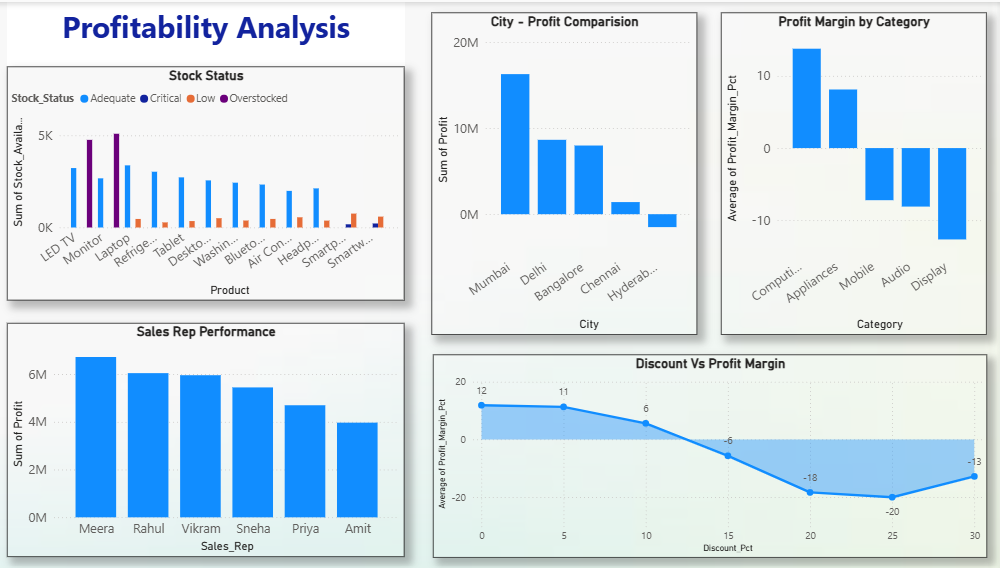

The dashboard page shown, as its layout file describes it:
{"tool":"powerbi","page":{"name":"Profitability Analysis","canvas":[1280,720],"ordinal":1},"visuals":[{"type":"textbox","box":[25.7,0,501.2,81.8],"z":0},{"type":"columnChart","title":"Profit Margin by Category","fields":{"Category":["techzone_sales.Category"],"Y":["Avg(techzone_sales.Profit_Margin_Pct)"]},"box":[926,13.2,334.5,406.3],"z":1000},{"type":"lineChart","title":"Discount Vs Profit Margin","fields":{"Category":["techzone_sales.Discount_Pct"],"Y":["Avg(techzone_sales.Profit_Margin_Pct)"]},"box":[563.3,443.7,698,255.9],"z":2000},{"type":"columnChart","title":"City - Profit Comparision","fields":{"Category":["techzone_sales.City"],"Y":["Sum(techzone_sales.Profit)"]},"box":[561.3,13.2,334.5,406.3],"z":3000},{"type":"clusteredColumnChart","title":"Stock Status","fields":{"Y":["Sum(techzone_sales.Stock_Available)"],"Category":["techzone_sales.Product"],"Series":["techzone_sales.Stock_Status"]},"box":[26.5,81.3,500.8,294.8],"z":4000},{"type":"columnChart","title":"Sales Rep Performance","fields":{"Category":["techzone_sales.Sales_Rep"],"Y":["Sum(techzone_sales.Profit)"]},"box":[26.5,404.4,500.8,294.8],"z":5000}]}

Visuals, with their boxes in screenshot pixels (x1, y1, x2, y2), scaled from the page's 1280x720 canvas onto the 1000x568 screenshot:
textbox: {"left": 20, "top": 0, "right": 412, "bottom": 65}
"Profit Margin by Category" columnChart: {"left": 723, "top": 10, "right": 985, "bottom": 331}
"Discount Vs Profit Margin" lineChart: {"left": 440, "top": 350, "right": 985, "bottom": 552}
"City - Profit Comparision" columnChart: {"left": 439, "top": 10, "right": 700, "bottom": 331}
"Stock Status" clusteredColumnChart: {"left": 21, "top": 64, "right": 412, "bottom": 297}
"Sales Rep Performance" columnChart: {"left": 21, "top": 319, "right": 412, "bottom": 552}
